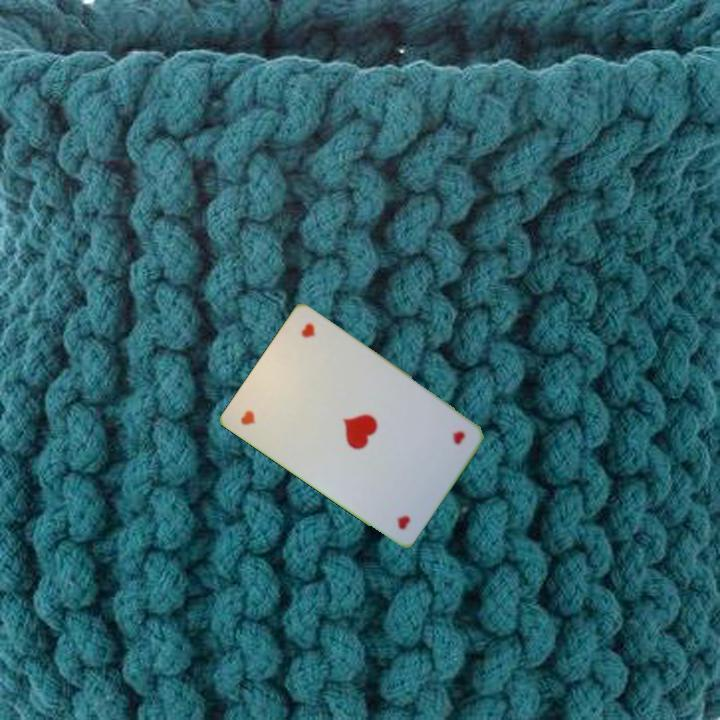h_a.png: (392, 401, 476, 487), (231, 365, 315, 451)
